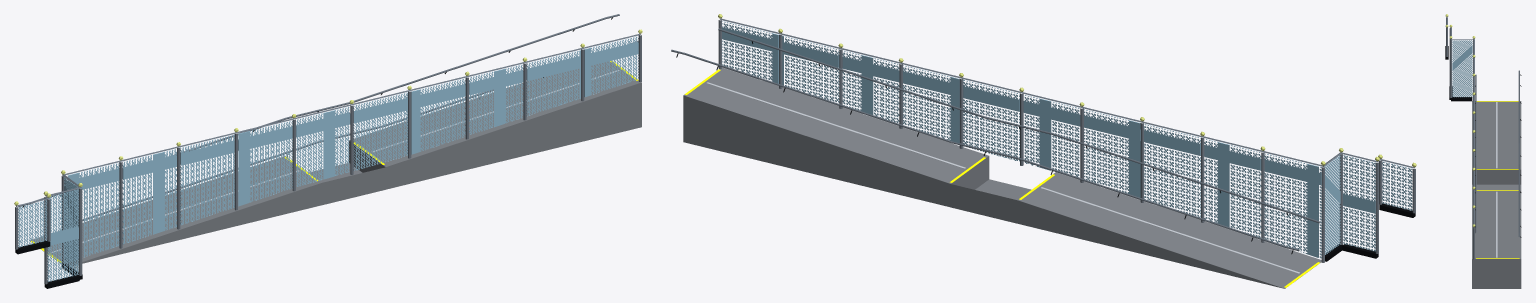
The model's file is tt_struct_leisure_ramp.glb.
3 renders of one model, left to right at view 1: azimuth 30°, elevation 25°; view 2: azimuth 150°, elevation 25°; view 3: azimuth 270°, elevation 25°, orthographic. The views are drawn at different scales.
Parts seen in each view (by area): view 1: Guard_Pane_Scissor, Ramp_Legs, Guard_Posts, Ramp_Landings, Handrail, Guard_Rail, Guard_Kerb, Court_Lines; view 2: Guard_Pane_Scissor, Ramp_Legs, Guard_Posts, Handrail, Ramp_Landings, Guard_Rail, Court_Lines, Guard_Kerb; view 3: Ramp_Legs, Guard_Pane_Scissor, Handrail, Guard_Rail, Ramp_Landings, Guard_Posts, Court_Lines, Court_Line_Amber, Guard_Kerb, Guard_Ball_Finials.
Part boxes in pixels (x1,y1,x2,y2): Guard_Pane_Scissor: [18, 36, 638, 282]; Ramp_Legs: [30, 61, 641, 265]; Guard_Posts: [15, 35, 641, 284]; Ramp_Landings: [309, 163, 385, 205]; Handrail: [18, 14, 637, 221]; Guard_Rail: [16, 33, 640, 206]; Guard_Kerb: [15, 240, 82, 288]; Court_Lines: [51, 70, 619, 252]; Guard_Pane_Scissor: [722, 21, 1412, 258]; Ramp_Legs: [683, 67, 1321, 288]; Guard_Posts: [718, 20, 1415, 262]; Handrail: [671, 28, 1319, 251]; Ramp_Landings: [950, 179, 1031, 223]; Guard_Rail: [720, 18, 1414, 168]; Court_Lines: [706, 82, 1299, 273]; Guard_Kerb: [1325, 203, 1415, 261]; Ramp_Legs: [1472, 101, 1521, 288]; Guard_Pane_Scissor: [1452, 40, 1472, 97]; Handrail: [1475, 70, 1519, 236]; Guard_Rail: [1446, 17, 1474, 227]; Ramp_Landings: [1472, 184, 1521, 190]; Guard_Posts: [1446, 28, 1474, 259]; Court_Lines: [1496, 102, 1497, 257]; Court_Line_Amber: [1476, 101, 1519, 258]; Guard_Kerb: [1445, 46, 1472, 101]; Guard_Ball_Finials: [1445, 14, 1475, 226].
Size of what is drawn, in the model's own units: 15.44 by 2.16 by 2.32.
Materials: 9 (6 with a texture image).
